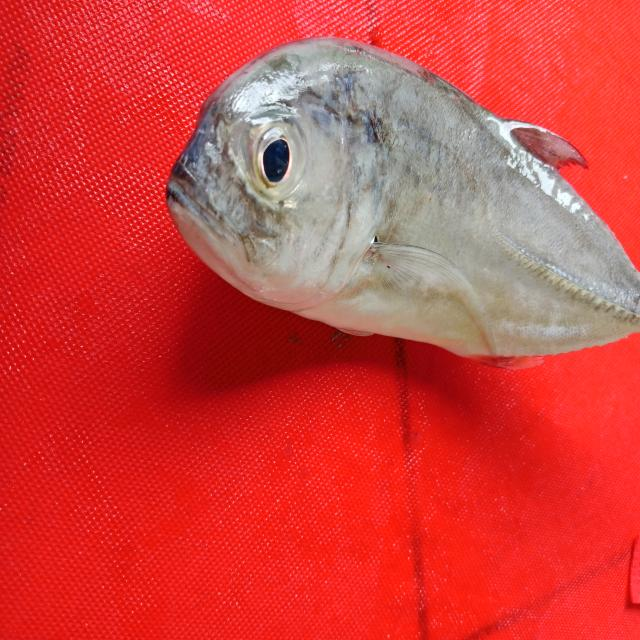ikan: (142, 4, 631, 377)
